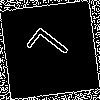L: (25, 25, 78, 75)
